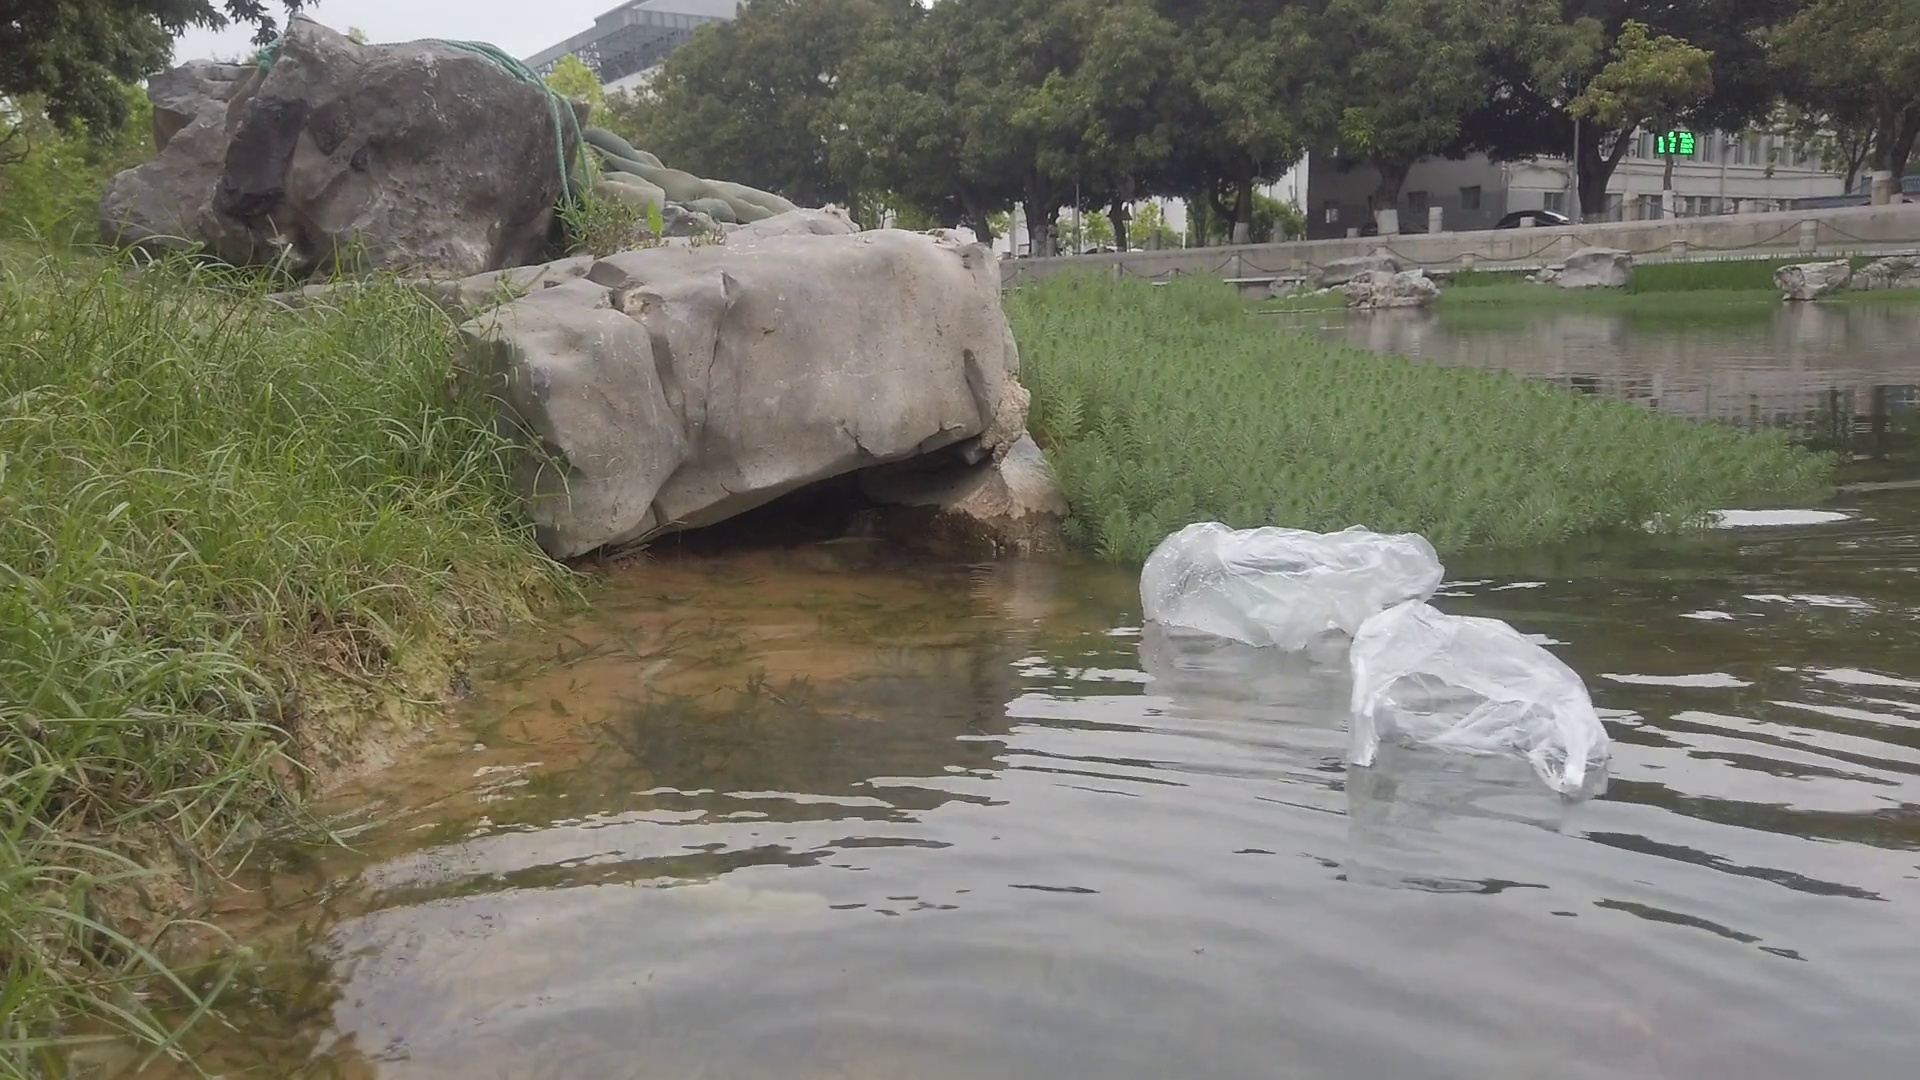plastic: (1353, 608, 1596, 786), (1139, 524, 1445, 642)
